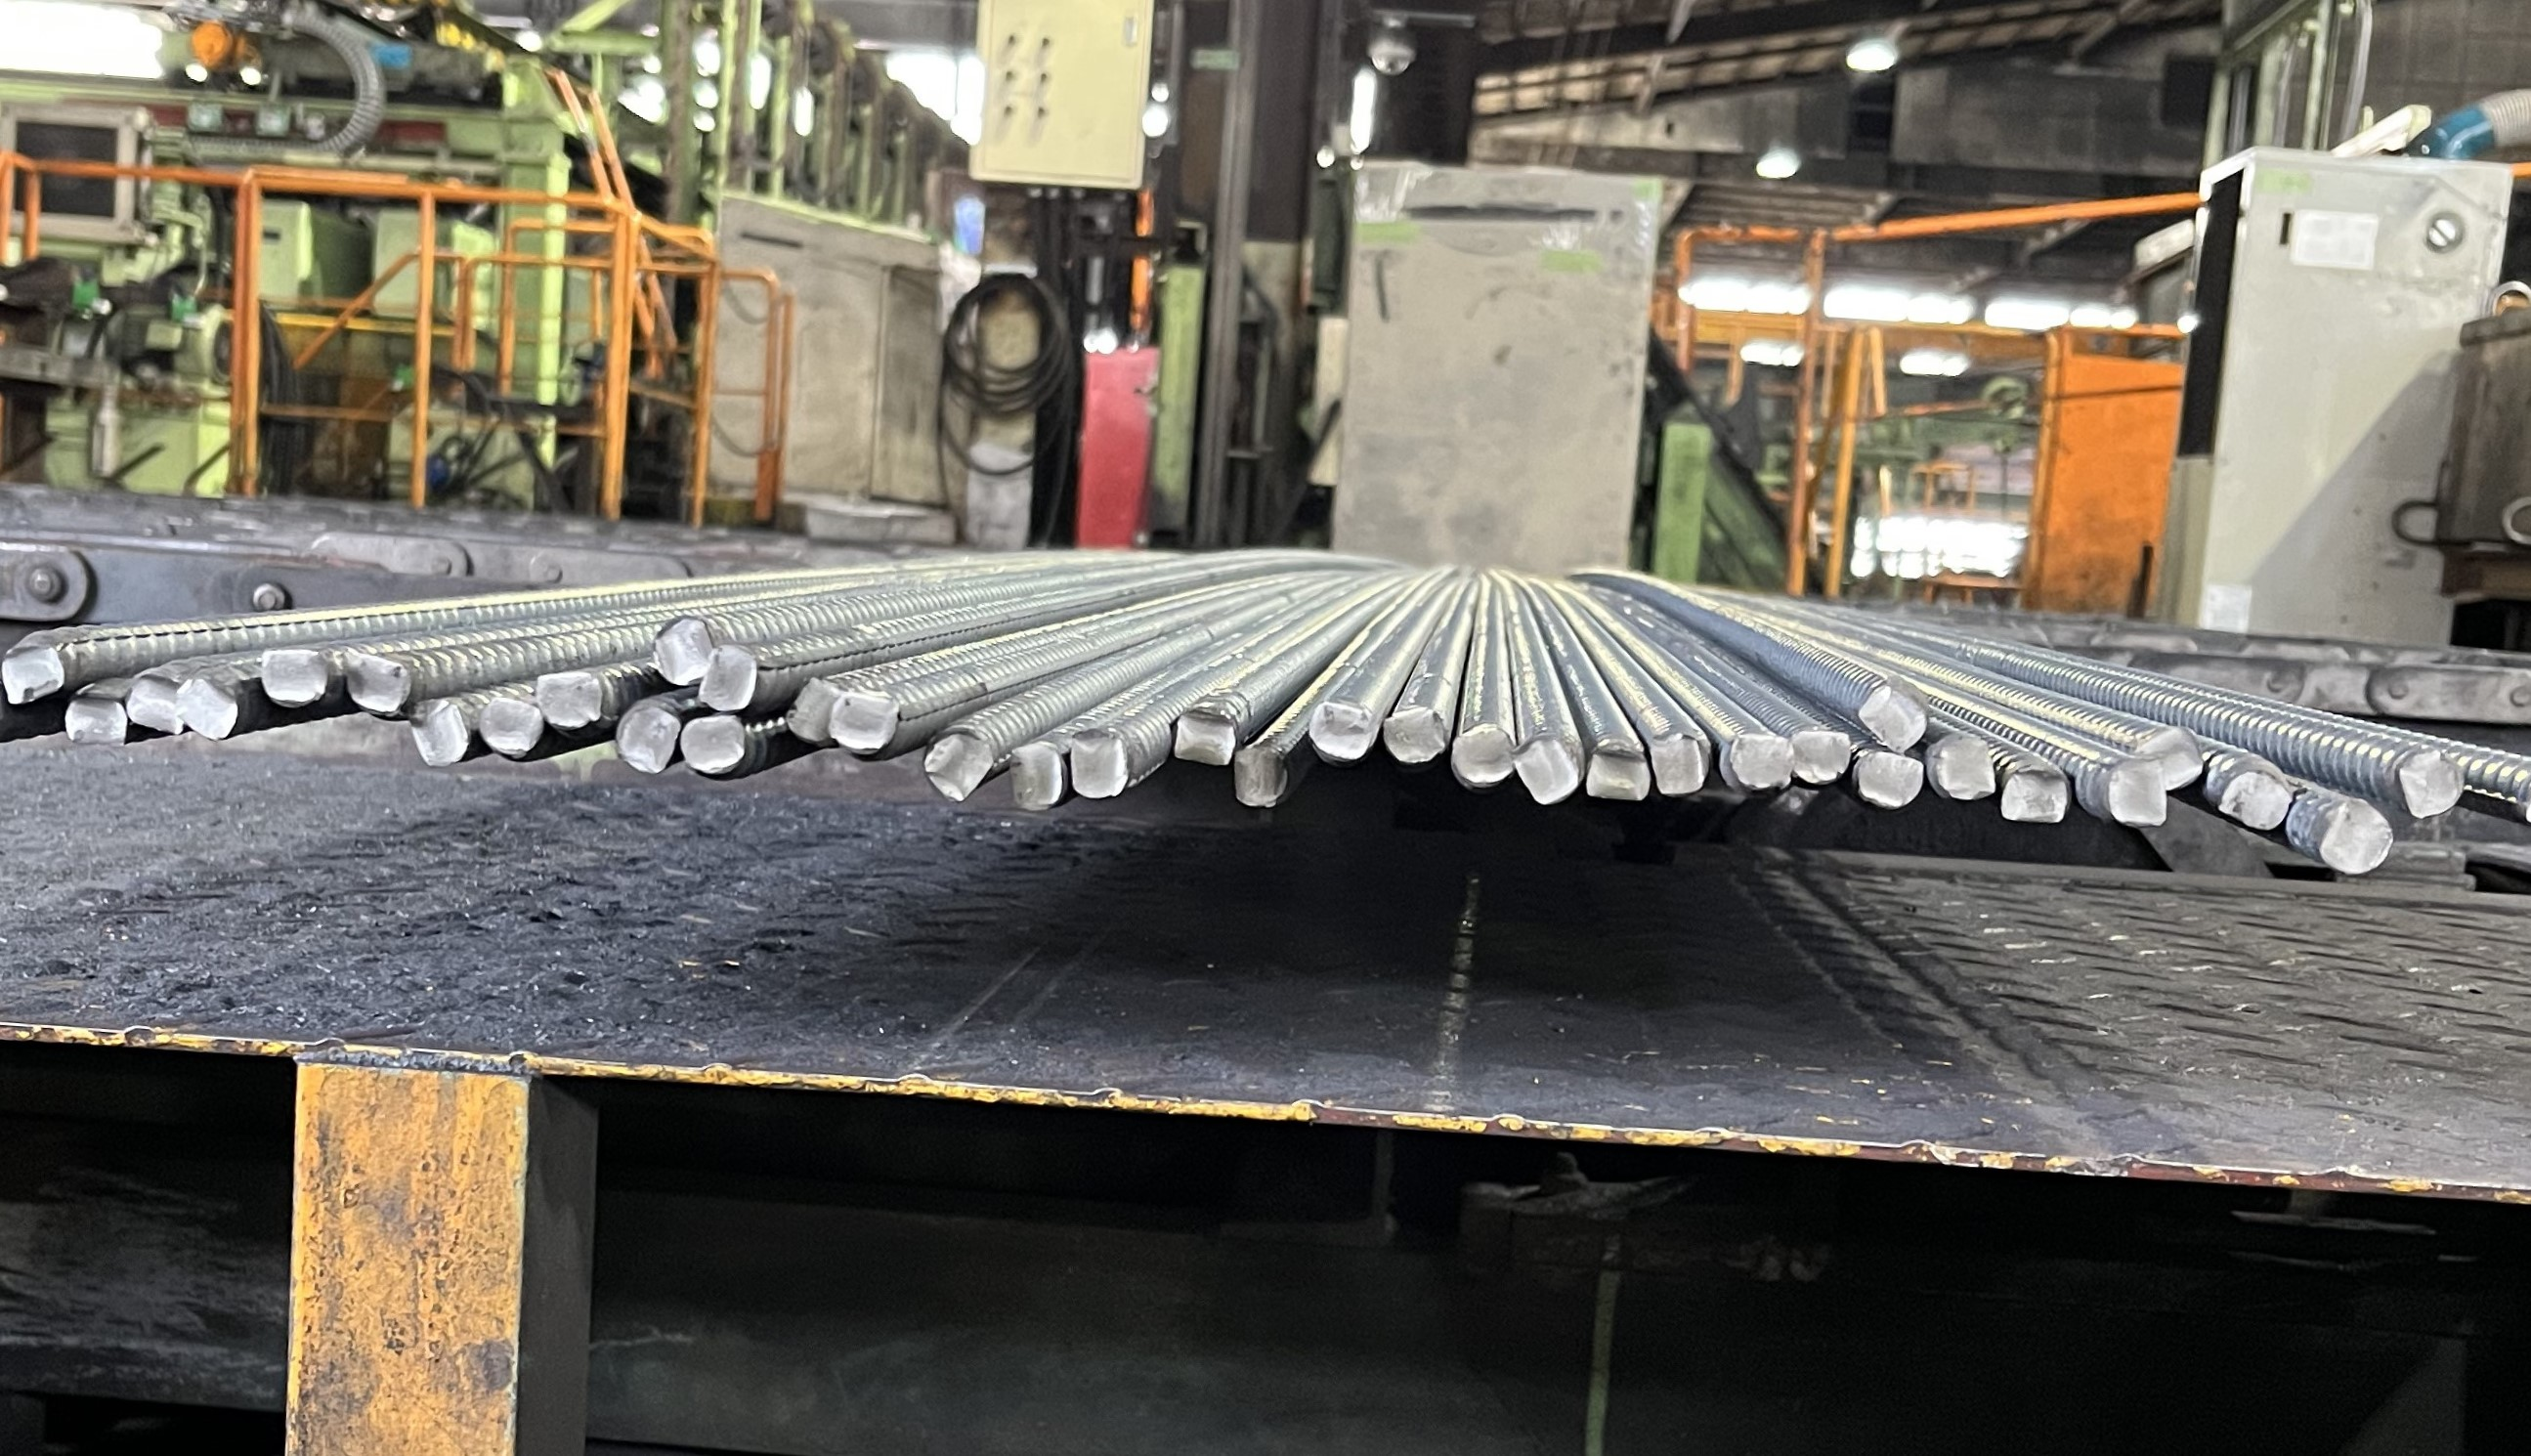rod: (2317, 797, 2395, 876), (1512, 731, 1584, 810), (921, 730, 996, 803), (2394, 747, 2467, 820), (1924, 731, 1999, 803), (614, 700, 683, 777), (2215, 768, 2296, 832), (341, 645, 414, 716), (2131, 725, 2208, 792), (648, 613, 716, 688), (407, 695, 473, 771), (1855, 685, 1931, 751), (826, 692, 900, 758), (2103, 758, 2171, 829), (1307, 698, 1377, 766), (1448, 721, 1516, 791), (1584, 737, 1653, 804), (259, 643, 332, 707), (1069, 726, 1132, 801), (1997, 764, 2072, 827), (172, 676, 242, 742), (476, 697, 548, 761), (535, 667, 608, 730), (2, 643, 70, 707), (697, 643, 758, 714), (1006, 740, 1067, 811), (1721, 735, 1796, 792), (678, 714, 749, 773), (1851, 751, 1924, 808), (784, 676, 843, 745), (1380, 707, 1446, 766), (1648, 730, 1707, 796), (1170, 707, 1238, 764), (61, 692, 130, 747), (125, 674, 184, 738), (1231, 745, 1290, 810), (1790, 728, 1851, 787)
